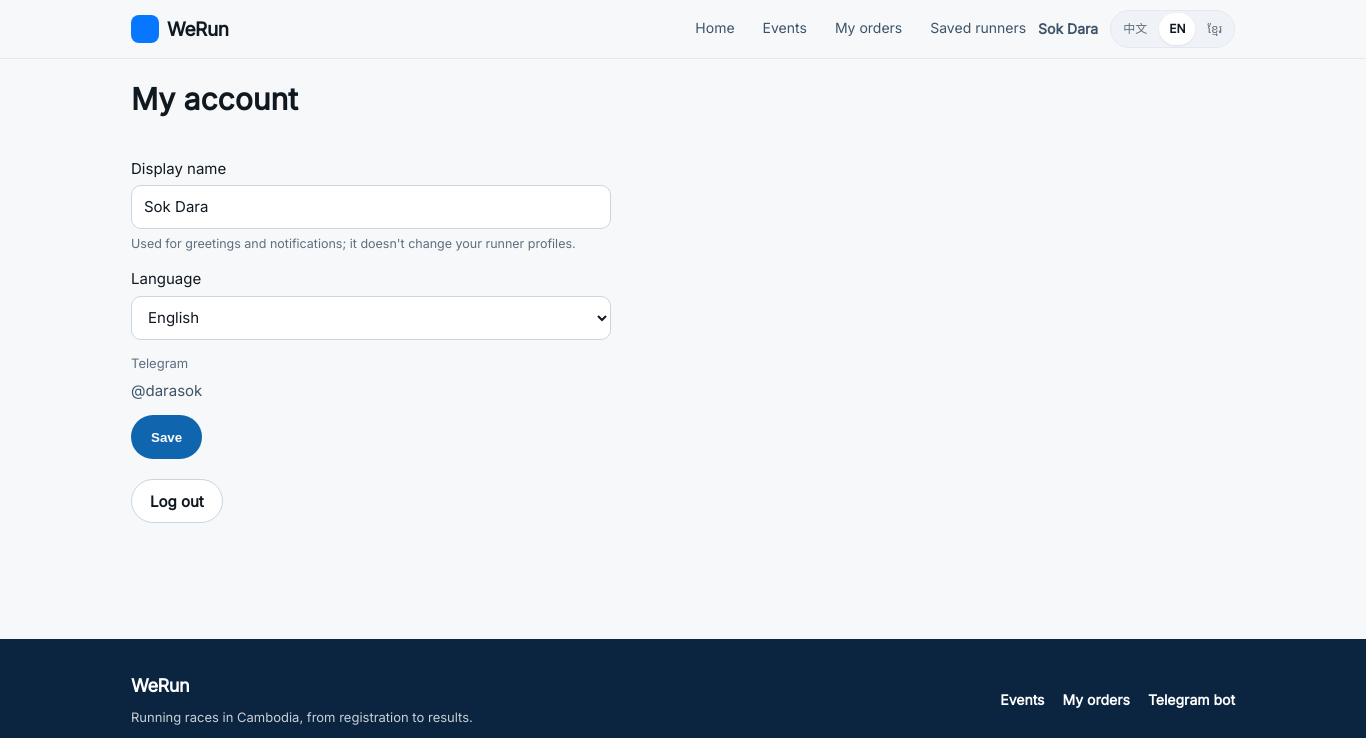
it: MePage › 点击退出登录后清空登录态并跳转首页
What coordinates should you click on to do the following:
click the button with test id "me-logout"
I would click on:
 (177, 501)
Its box is [131,479,223,523].
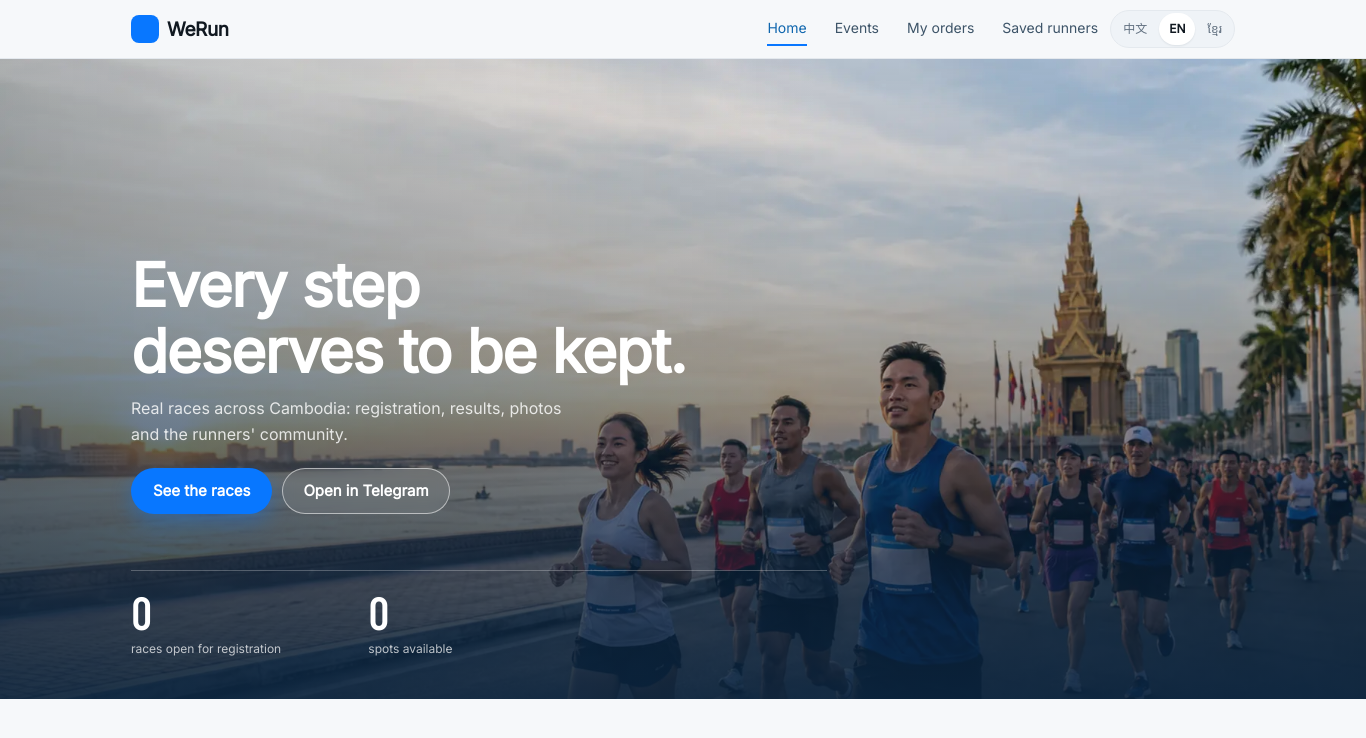
Check: the link with test id "nav-me" is gone
